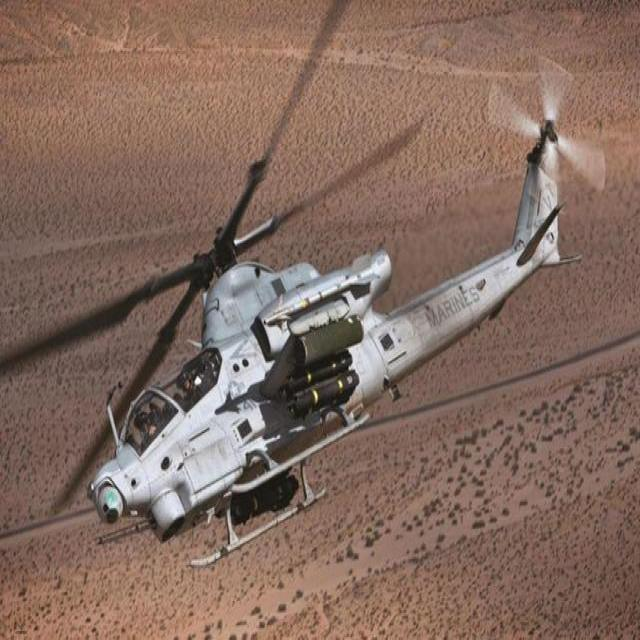MIL_HELO: (0, 0, 611, 580)
